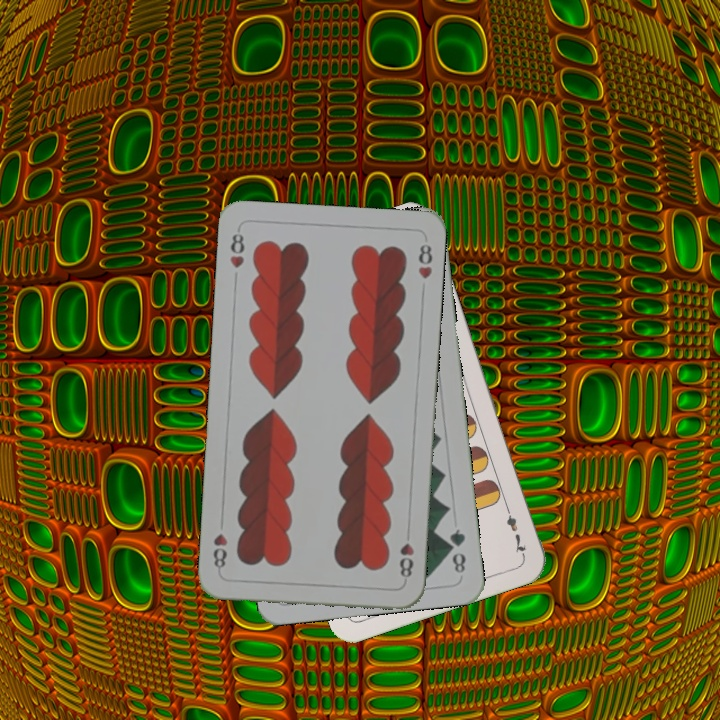E7: (501, 501, 528, 558)
G8: (445, 525, 469, 576)
H8: (226, 225, 247, 271), (395, 539, 416, 580)
